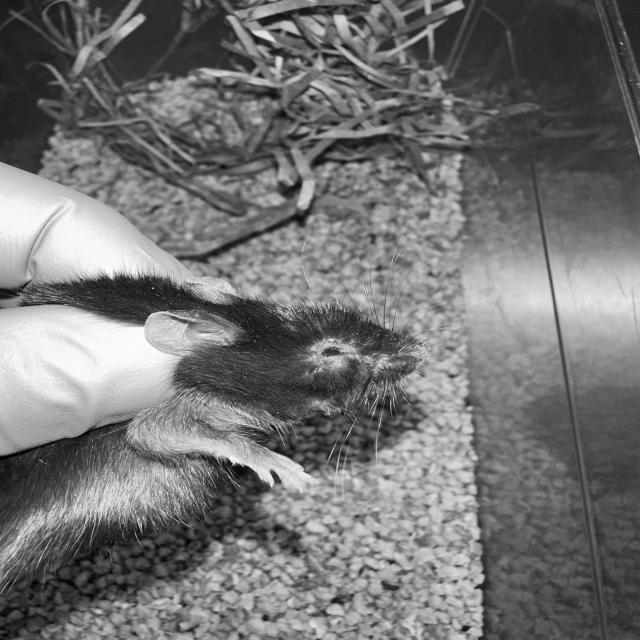Face: (136, 278, 431, 426)
